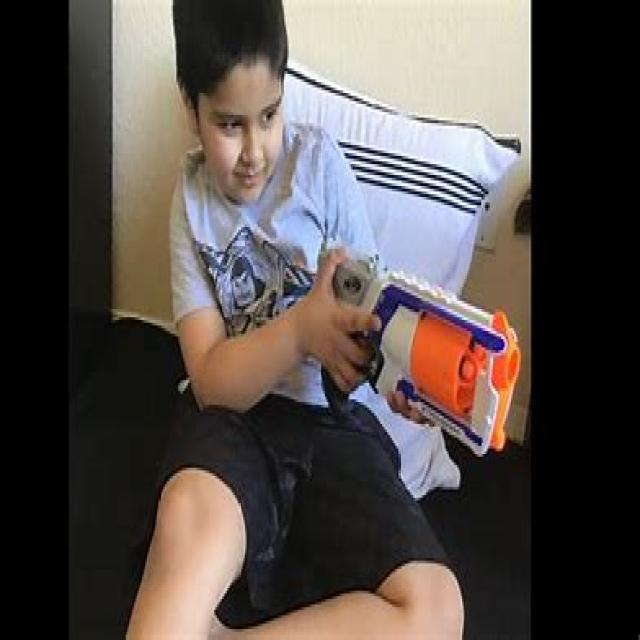nerf-maverik: (314, 223, 527, 498)
